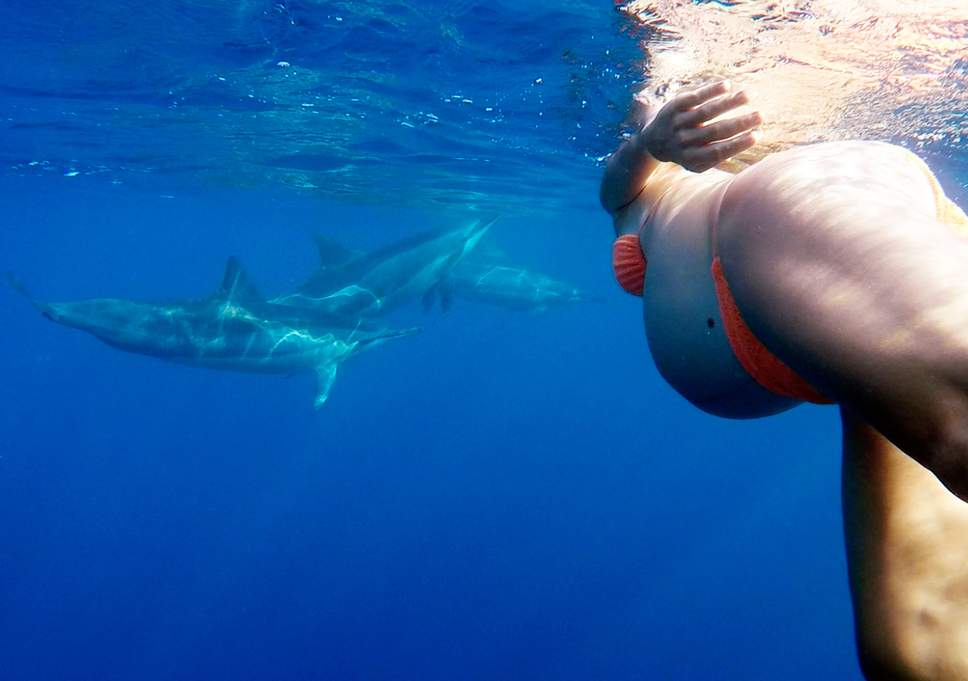dolphin: (17, 267, 435, 391)
